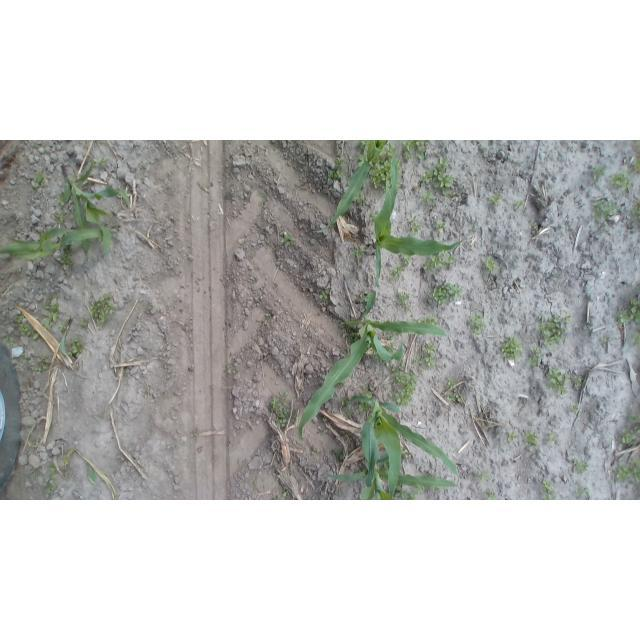Maize: (298, 318, 448, 441), (365, 148, 468, 316), (348, 396, 461, 500), (313, 140, 388, 234), (327, 450, 458, 500), (60, 163, 131, 255), (2, 222, 120, 262)
Weeds: (419, 157, 456, 204), (539, 312, 570, 345), (89, 291, 115, 327), (394, 369, 418, 407), (268, 390, 292, 426), (430, 282, 462, 305), (617, 298, 640, 329), (412, 342, 436, 370), (546, 366, 570, 394), (423, 254, 453, 273), (14, 316, 38, 339), (613, 463, 639, 484), (623, 417, 640, 448), (372, 162, 391, 186), (593, 198, 616, 217), (403, 140, 428, 156), (41, 308, 60, 329), (504, 337, 521, 359), (394, 254, 409, 278), (447, 381, 462, 404), (66, 338, 83, 358), (327, 159, 342, 180), (541, 479, 555, 500), (612, 174, 631, 189), (399, 293, 414, 311), (34, 359, 51, 374), (471, 315, 484, 334), (590, 165, 606, 180), (572, 458, 586, 475), (531, 349, 544, 367), (631, 201, 640, 226), (45, 478, 58, 494), (32, 173, 45, 188), (485, 256, 496, 272), (411, 219, 421, 236), (526, 432, 539, 445), (382, 146, 395, 159), (488, 193, 503, 204), (577, 487, 589, 499), (573, 376, 584, 388), (59, 255, 71, 266), (320, 289, 331, 301), (434, 220, 446, 231), (543, 434, 559, 442), (634, 154, 640, 175), (353, 246, 364, 257), (507, 431, 517, 442), (479, 471, 489, 482), (483, 489, 494, 499), (514, 200, 524, 211), (282, 234, 291, 245), (59, 321, 68, 331), (357, 195, 366, 204), (530, 221, 538, 231), (358, 155, 365, 166), (573, 401, 580, 411)
